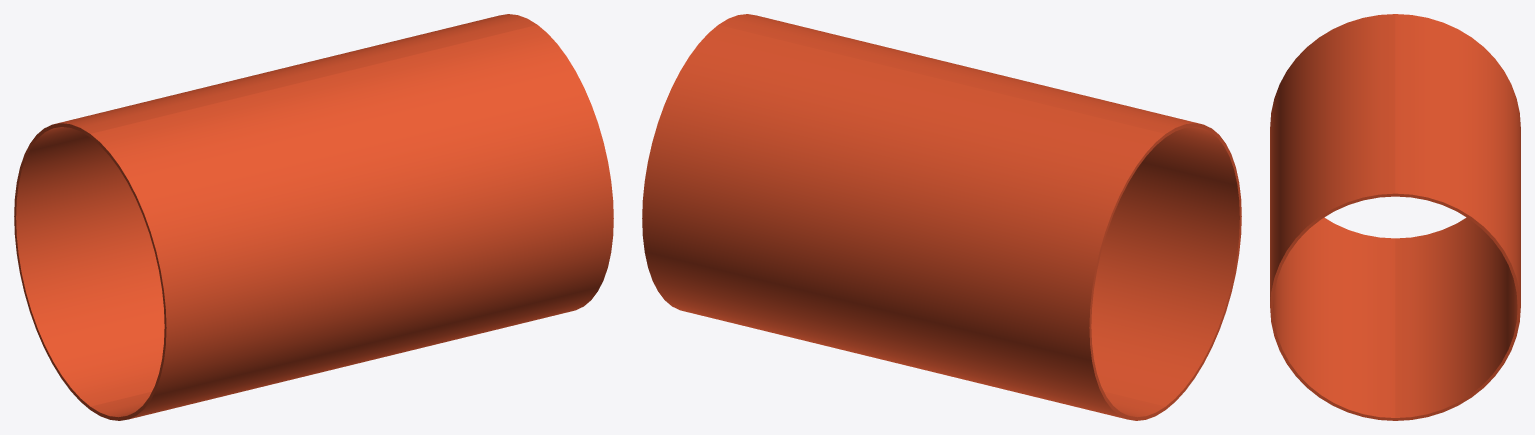
Rendered from sodium_oxalate_filter_pressure.glb.
3 renders of one model, left to right at view 1: azimuth 30°, elevation 25°; view 2: azimuth 150°, elevation 25°; view 3: azimuth 270°, elevation 25°, orthographic. The views are drawn at different scales.
Visible parts, largest first — view 1: pressure__front, pressure__back; view 2: pressure__back, pressure__front; view 3: pressure__back, pressure__front.
Part boxes in pixels (<box>): pressure__front: <box>90,25,613,420</box>; pressure__back: <box>14,14,537,409</box>; pressure__back: <box>642,25,1165,420</box>; pressure__front: <box>718,14,1241,409</box>; pressure__back: <box>1395,14,1520,420</box>; pressure__front: <box>1270,14,1395,420</box>.
Bounding box in the file's own units: 2 × 1.18 × 1.18.
